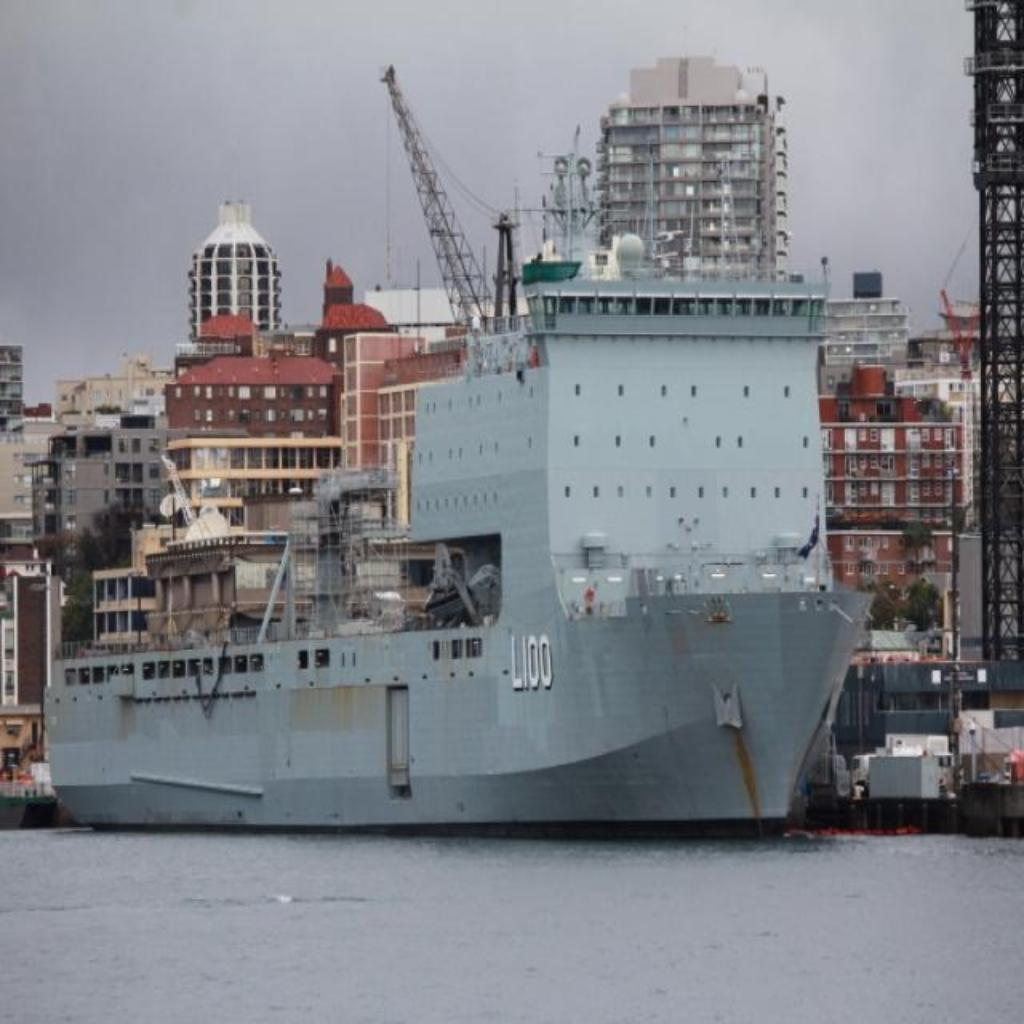Warship: (51, 214, 879, 846)
